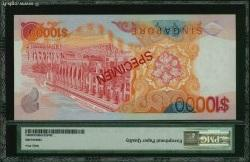10000SingaporeDollar: (15, 14, 235, 120)
